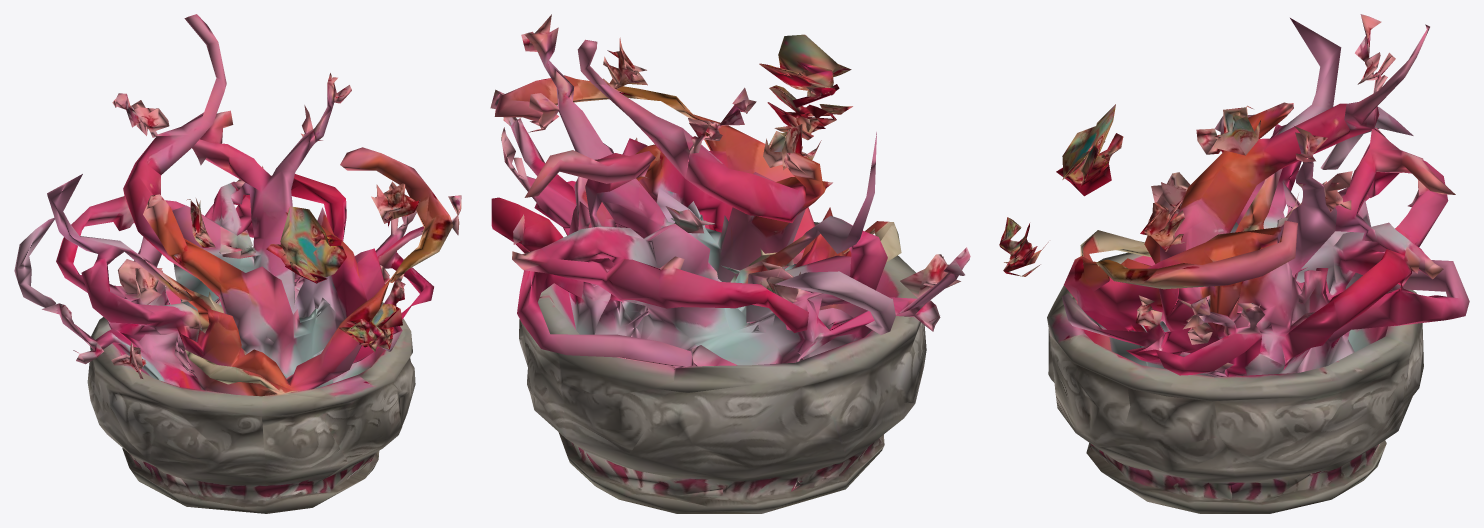
File: ss_xianchi.glb
3 views of the same model, side by side, from view 1: azimuth 30°, elevation 25°; view 2: azimuth 150°, elevation 25°; view 3: azimuth 270°, elevation 25° (orthographic). The views are drawn at different scales.
Parts seen in each view (by area): view 1: tripo_node_8041ccf4-56bc-4111-a69f-76ceda16e0d2; view 2: tripo_node_8041ccf4-56bc-4111-a69f-76ceda16e0d2; view 3: tripo_node_8041ccf4-56bc-4111-a69f-76ceda16e0d2.
Part boxes in pixels (x1=…): tripo_node_8041ccf4-56bc-4111-a69f-76ceda16e0d2: x1=14, y1=14, x2=461, y2=513; tripo_node_8041ccf4-56bc-4111-a69f-76ceda16e0d2: x1=490, y1=14, x2=970, y2=513; tripo_node_8041ccf4-56bc-4111-a69f-76ceda16e0d2: x1=999, y1=14, x2=1469, y2=513.
Size of the model in its own units: 0.9913 by 0.9106 by 0.8762.
Materials: 1 (1 with a texture image).
